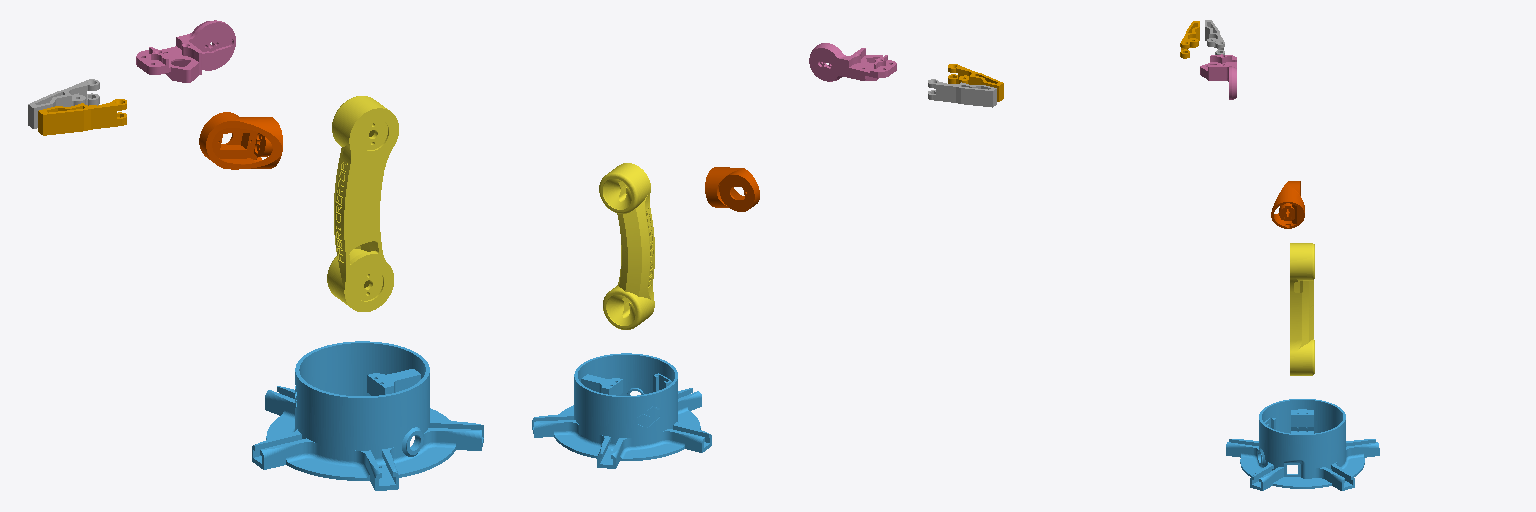
URDF robot description (testing-robot):
<?xml version="1.0"?>
<!-- URDF WORKS TILL wrist. Need to fix positioning and then work on gripper -->
<robot name="testing-robot">

  <link name="world"></link>

  <joint name="base_joint" type="fixed">
      <origin xyz="1 1.5 0" rpy="0 0 0"/>
      <parent link="world"/>
      <child link="base_link"/>
      
  </joint>

  <!-- Base Link -->
  <link name="base_link">
    <visual>
      <origin xyz="-0.04 0.092785522699356109966 0" rpy="0 0 0"/>
      <geometry>
        <mesh filename="package://my_robot_rviz/meshes/Base.dae" scale="1 1 1"/>
      </geometry>
      <!-- <geometry>
        <box size="0.2 0.2 0.2"/>
      </geometry> -->

    </visual>
    <collision>
      <origin xyz="-0.04 0.092785522699356109966 0" rpy="0 0 0"/>
      <geometry>
        <mesh filename="package://my_robot_rviz/meshes/Base.dae" scale="1 1 1"/>
      </geometry>
      <!-- <geometry>
        <box size="0.2 0.2 0.2"/>
      </geometry> -->

    </collision>
  </link>

  <!-- Revolute joint connecting base_link to central_axis_link -->
  <joint name="joint_base_to_central" type="revolute">
    <origin xyz="0 0 0.093107574462890613232"/>
    <parent link="base_link"/>
    <child link="central_axis_link"/>
    <axis xyz="0 0 1"/>
    <limit lower="0" upper="3.14" effort="100" velocity="100"/>
    
    
    
    
  </joint>

  <!-- Central Axis Link -->
  <link name="central_axis_link">
    <visual>
      <origin xyz="-0.04 0.092785522699356109966 -0.093107574462890613232" rpy="0 0 0"/>
      <geometry>
        <mesh filename="package://my_robot_rviz/meshes/EjeCentral.dae" scale="1 1 1"/>
      </geometry>
      <!-- <geometry>
        <box size="0.2 0.2 0.2"/>
      </geometry> -->

    </visual>
    <collision>
      <origin xyz="-0.04 0.092785522699356109966 -0.093107574462890613232" rpy="0 0 0"/>
      <geometry>
        <mesh filename="package://my_robot_rviz/meshes/EjeCentral.dae" scale="1 1 1"/>
      </geometry>
      <!-- <geometry>
        <box size="0.2 0.2 0.2"/>
      </geometry> -->

    </collision>
  </link>

  <!-- Revolute joint: central_axis_link to arm_link -->
  <joint name="joint_central_to_forearm" type="revolute">
    <parent link="central_axis_link"/>
    <child link="forearm_link"/>
    <origin xyz="0 0 0.07" rpy="0 0 0"/>
    <axis xyz="0 1 0"/>
    <limit lower="-1.57" upper="1.57" effort="10" velocity="1"/>
  </joint>

  <!-- Forearm Link -->
  <link name="forearm_link">
    <visual>
      <origin xyz="-0.028429296970367431974 0.080424407958984450717 -0.16" rpy="0 0 0"/>
      <geometry>
        <mesh filename="package://my_robot_rviz/meshes/Antebrazo.dae" scale="1 1 1"/>
      </geometry>
    </visual>
    <collision>
      <origin xyz="-0.028429296970367431974 0.080424407958984450717 -0.16" rpy="0 0 0"/>
      <geometry>
        <mesh filename="package://my_robot_rviz/meshes/Antebrazo.dae" scale="1 1 1"/>
      </geometry>
    </collision> 
  </link>

  <!-- Revolute joint: arm_link to forearm_link -->
  <joint name="joint_forearm_to_arm" type="revolute">
    <parent link="forearm_link"/>
    <child link="arm_link"/>
    <origin xyz="0 0 0.13" rpy="0 0 0"/>
    <axis xyz="0 1 0"/>
    <limit lower="-1.57" upper="1.57" effort="10" velocity="1"/>
  </joint>

  <!-- Arm Link -->
  <link name="arm_link">
    <visual>
      <origin xyz="-0.03 0.08633435821533209931 -0.29242617797851566674" rpy="0 0 0"/>
      <geometry>
        <mesh filename="package://my_robot_rviz/meshes/Brazo.dae" scale="1 1 1"/>
      </geometry>
    </visual>
    <collision>
      <origin xyz="-0.03 0.08633435821533209931 -0.29242617797851566674" rpy="0 0 0"/>
      <geometry>
        <mesh filename="package://my_robot_rviz/meshes/Brazo.dae" scale="1 1 1"/>
      </geometry>
    </collision>
  </link>

  <!-- Revolute joint: forearm_link to wrist_link -->
  <joint name="joint_arm_to_wrist" type="revolute">
    <parent link="arm_link"/>
    <child link="wrist_link"/>
    <origin xyz="-0.06 -0.011158664703 0.0075" rpy="0 0 0"/>
    <axis xyz="1 0 0"/>
    <limit lower="-1.57" upper="1.57" effort="10" velocity="1"/>
  </joint>

  <!-- Wrist Link -->
  <link name="wrist_link">
    <visual>
      <origin xyz="0.028 0.1 -0.3" rpy="0 0 0"/>
      <geometry>
        <mesh filename="package://my_robot_rviz/meshes/Muteca.dae" scale="1 1 1"/>
      </geometry>
    </visual>
    <collision>
      <origin xyz="0.028 0.1 -0.3" rpy="0 0 0"/>
      <geometry>
        <mesh filename="package://my_robot_rviz/meshes/Muteca.dae" scale="1 1 1"/>
      </geometry>
    </collision>
  </link>

  <!-- Revolute joint: wrist_link to gripper_base_link -->
  <joint name="joint_wrist_to_gripper_base" type="revolute">
    <parent link="wrist_link"/>
    <child link="gripper_base_link"/>
    <origin xyz="-0.06 0 0" rpy="0 0 0"/>
    <axis xyz="0 1 0"/>
    <limit lower="-1.57" upper="1.57" effort="10" velocity="1"/>
  </joint>

  <!-- Gripper Base Link -->
  <link name="gripper_base_link">
    <visual>
      <origin xyz="0.035 0.021828266918659258722 -0.18234000396728520577" rpy="0 0 0"/>
      <geometry>
        <mesh filename="package://my_robot_rviz/meshes/Basedelagarra.dae" scale="1 1 1"/>
      </geometry>
    </visual>
    <collision>
      <origin xyz="0.035 0.021828266918659258722 -0.18234000396728520577" rpy="0 0 0"/>
      <geometry>
        <mesh filename="package://my_robot_rviz/meshes/Basedelagarra.dae" scale="1 1 1"/>
      </geometry>
    </collision>
  </link>

  <!-- Revolute joint: gripper_base_link to gripper_finger1_link -->
  <joint name="joint_gripper_finger1" type="revolute">
    <parent link="gripper_base_link"/>
    <child link="gripper_finger1_link"/>
    <origin xyz="0 0 0" rpy="0 0 0"/>
    <axis xyz="0 0 1"/>
    <limit lower="0" upper="3.14" effort="5" velocity="1"/>
  </joint>

  <!-- Gripper finger 1 -->
  <link name="gripper_finger1_link">
    <visual>
      <origin xyz="0 0 -0.19234000396728520577" rpy="0 0 0"/>
      <geometry>
        <mesh filename="package://my_robot_rviz/meshes/Pinza1.dae" scale="1 1 1"/>
      </geometry>
    </visual>
    <collision>
      <origin xyz="0 0 -0.19234000396728520577" rpy="0 0 0"/>
      <geometry>
        <mesh filename="package://my_robot_rviz/meshes/Pinza1.dae" scale="1 1 1"/>
      </geometry>
    </collision>
  </link>

  <!-- Revolute joint: gripper_base_link to gripper_finger2_link -->
  <joint name="joint_gripper_finger2" type="fixed">
    <parent link="gripper_finger1_link"/>
    <child link="gripper_finger2_link"/>
    <!-- <origin xyz="0 0 0" rpy="0 0 0"/>
    <axis xyz="0 1 0"/>
    <limit lower="0" upper="3.14" effort="5" velocity="1"/> -->
  </joint>

  <!-- Gripper finger 2 -->
  <link name="gripper_finger2_link">
    <visual>
      <origin xyz="0 0 -0.19234000396728520577" rpy="0 0 0"/>
      <geometry>
        <mesh filename="package://my_robot_rviz/meshes/Pinza2.dae" scale="1 1 1"/>
      </geometry>
    </visual>
    <collision>
      <origin xyz="0 0 -0.19234000396728520577" rpy="0 0 0"/>
      <geometry>
        <mesh filename="package://my_robot_rviz/meshes/Pinza2.dae" scale="1 1 1"/>
      </geometry>
    </collision>
  </link>

</robot>

--- Facts derived from the render (not from the file) ---
3 views of the same robot in one strip: view 1: azimuth 30°, elevation 25°; view 2: azimuth 150°, elevation 25°; view 3: azimuth 270°, elevation 25° (orthographic).
Robot: testing-robot — 9 links, 8 joints (6 revolute, 2 fixed); root link world; default pose: every joint at zero.
Visible links, largest first — view 1: base_link, forearm_link, wrist_link, gripper_base_link, gripper_finger2_link, gripper_finger1_link; view 2: base_link, forearm_link, gripper_base_link, wrist_link, gripper_finger1_link, gripper_finger2_link; view 3: base_link, forearm_link, wrist_link, gripper_base_link.
Link boxes in pixels (x1=…): base_link: x1=252, y1=341, x2=483, y2=490; forearm_link: x1=327, y1=96, x2=398, y2=311; wrist_link: x1=199, y1=112, x2=282, y2=169; gripper_base_link: x1=136, y1=20, x2=235, y2=82; gripper_finger2_link: x1=38, y1=99, x2=126, y2=135; gripper_finger1_link: x1=28, y1=79, x2=99, y2=128; base_link: x1=532, y1=353, x2=711, y2=468; forearm_link: x1=599, y1=163, x2=654, y2=329; gripper_base_link: x1=809, y1=43, x2=896, y2=81; wrist_link: x1=705, y1=167, x2=759, y2=211; gripper_finger1_link: x1=928, y1=79, x2=996, y2=107; gripper_finger2_link: x1=948, y1=64, x2=1003, y2=101; base_link: x1=1226, y1=399, x2=1379, y2=490; forearm_link: x1=1290, y1=243, x2=1314, y2=375; wrist_link: x1=1271, y1=181, x2=1304, y2=228; gripper_base_link: x1=1200, y1=54, x2=1236, y2=99.
Bounding box of the posed robot: 0.4168 × 0.2239 × 0.4091 m (x, y, z).
6 mesh visuals loaded from 8 distinct referenced files (6 Collada DAE); not drawn: 2 (reference not matched to a file when rendering).
